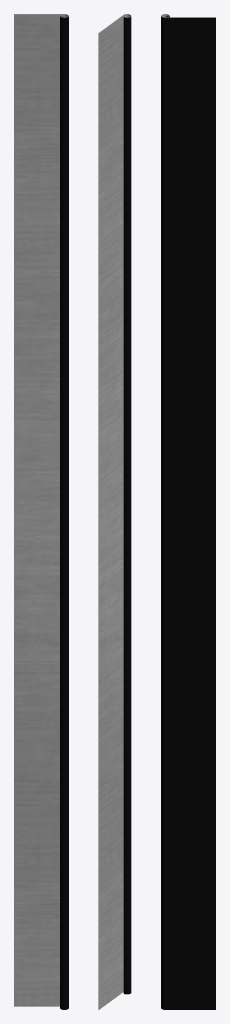
File: bande de rive à ourlet.gltf
3 renders of one model, left to right at view 1: azimuth 90°, elevation 25°; view 2: azimuth 150°, elevation 25°; view 3: azimuth 270°, elevation 25°, orthographic.
Visible parts, largest first — view 1: bande de rive à ourlet; view 2: bande de rive à ourlet; view 3: bande de rive à ourlet.
Boxes of the visible parts, x1=… form: bande de rive à ourlet: x1=14, y1=14, x2=68, y2=1009; bande de rive à ourlet: x1=98, y1=14, x2=131, y2=1009; bande de rive à ourlet: x1=161, y1=14, x2=215, y2=1009.
Size of the model in its own units: 0.016 by 2 by 0.1.
2 materials, 1 textured.
